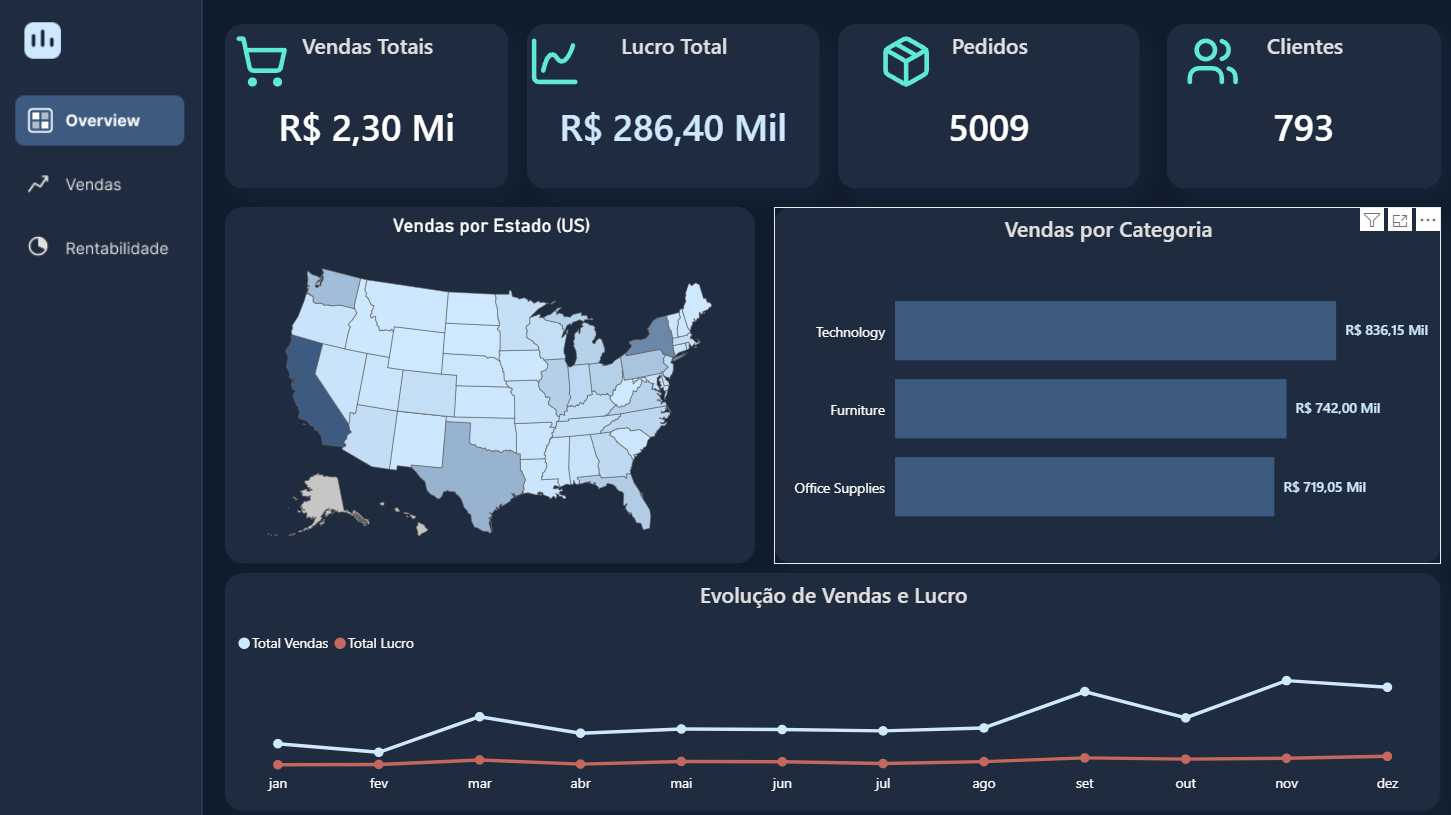

The page's visual inventory and layout, read from the dashboard file:
{"tool":"powerbi","page":{"name":"Overview","canvas":[1280,720],"ordinal":0},"visuals":[{"type":"card","title":"Vendas Totais","fields":{"Values":["Medidas.Total Vendas"]},"box":[200,24,248,144],"z":0},{"type":"card","title":"Lucro Total","fields":{"Values":["Medidas.Total Lucro"]},"box":[464,24,256,144],"z":1000},{"type":"card","title":"Pedidos","fields":{"Values":["Medidas.Total Pedidos"]},"box":[736,24,264,144],"z":2000},{"type":"card","title":"Clientes","fields":{"Values":["Medidas.Total Clientes"]},"box":[1024,24,240,144],"z":3000},{"type":"shapeMap","title":"Vendas por Estado (US)","fields":{"Category":["fato_vendas.estado"],"Value":["Medidas.Total Vendas"]},"box":[200,184,464,312],"z":4000},{"type":"clusteredBarChart","title":"Vendas por Categoria","fields":{"Category":["fato_vendas.categoria"],"Y":["Medidas.Total Vendas"]},"box":[680,184,584,312],"z":5000},{"type":"lineChart","title":"Evolução de Vendas e Lucro","fields":{"Category":["Calendario.Mês"],"Y":["Medidas.Total Vendas","Medidas.Total Lucro"]},"box":[200,504,1064,208],"z":6000},{"type":"image","box":[1024,32,80,48],"z":7000},{"type":"image","box":[760,32,72,48],"z":8000},{"type":"image","box":[448,32,80,48],"z":9000},{"type":"image","box":[200,32,64,48],"z":10000},{"type":"actionButton","box":[16,144,144,48],"z":11000},{"type":"actionButton","box":[16,192,144,48],"z":12000}]}

Visuals, with their boxes on the page's 1280x720 design canvas (x1, y1, x2, y2). These are canvas units, not pixel positions in the 1451x815 screenshot, which may show the page scaled, cropped or inside an application window:
"Vendas Totais" card: pyautogui.locateOnScreen(200, 24, 448, 168)
"Lucro Total" card: pyautogui.locateOnScreen(464, 24, 720, 168)
"Pedidos" card: pyautogui.locateOnScreen(736, 24, 1000, 168)
"Clientes" card: pyautogui.locateOnScreen(1024, 24, 1264, 168)
"Vendas por Estado (US)" shapeMap: pyautogui.locateOnScreen(200, 184, 664, 496)
"Vendas por Categoria" clusteredBarChart: pyautogui.locateOnScreen(680, 184, 1264, 496)
"Evolução de Vendas e Lucro" lineChart: pyautogui.locateOnScreen(200, 504, 1264, 712)
image: pyautogui.locateOnScreen(1024, 32, 1104, 80)
image: pyautogui.locateOnScreen(760, 32, 832, 80)
image: pyautogui.locateOnScreen(448, 32, 528, 80)
image: pyautogui.locateOnScreen(200, 32, 264, 80)
actionButton: pyautogui.locateOnScreen(16, 144, 160, 192)
actionButton: pyautogui.locateOnScreen(16, 192, 160, 240)
